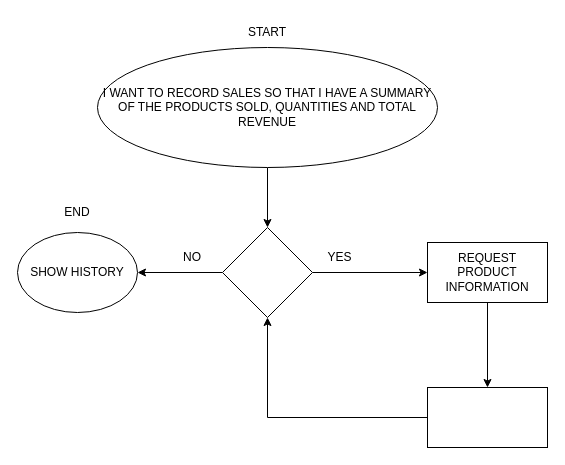
Image size: 565x465. Some labels were removed from this diagram. The shapes that lost their labels are listed below. From the top down, each one's centre as x and y in pixels, then its label:
At point (267, 272): "IS THERE A SALE?".
At point (487, 417): "REGISTER SALE".
